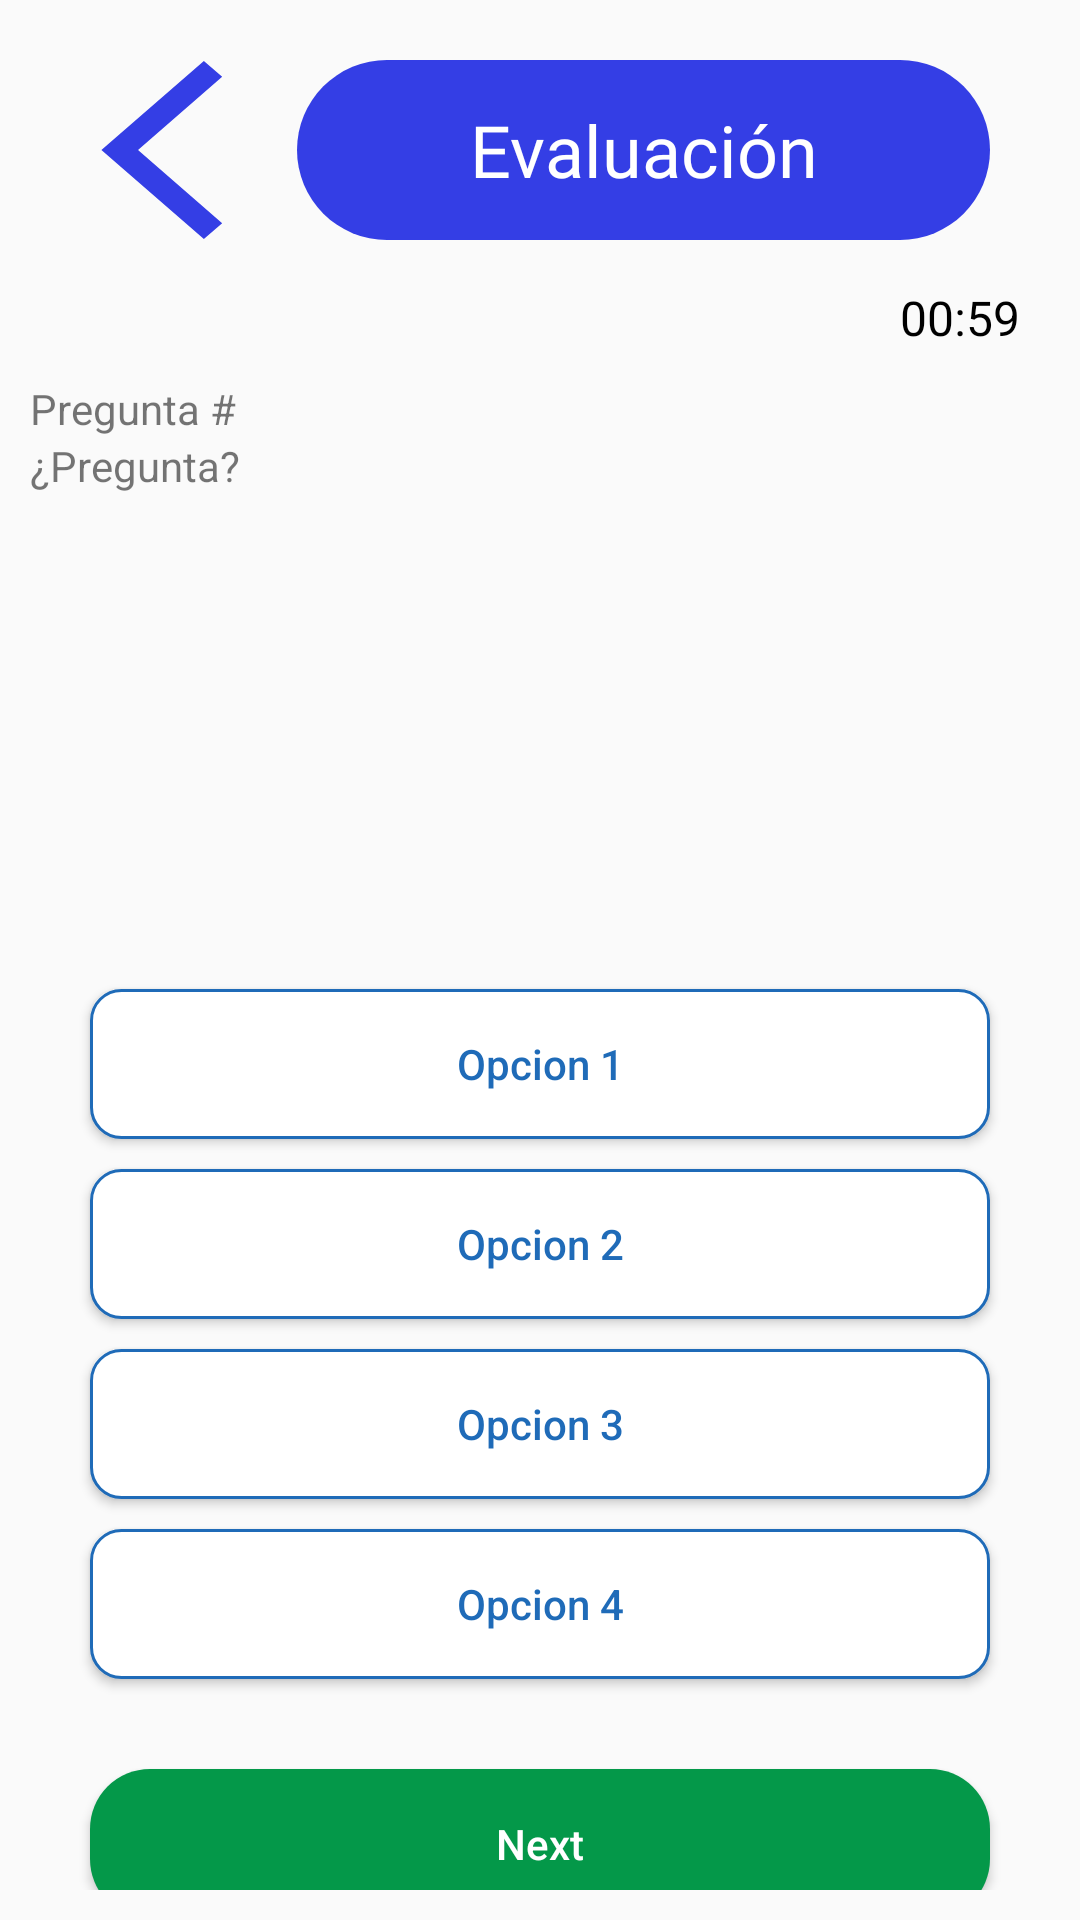

Named icons in this screenshot (1080 × 1920) and their bounding boxes, (x1, y1, x2, y2):
back: (101, 61, 222, 239)
